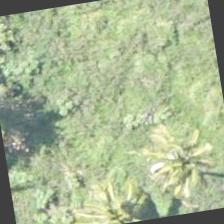Kelapa_Sawit: (126, 122, 223, 222), (57, 165, 155, 223)
